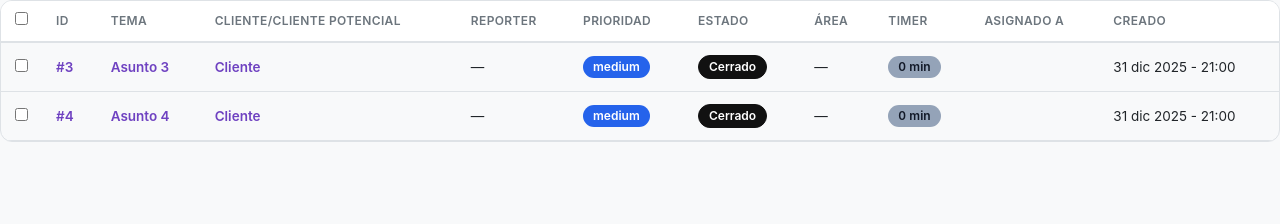
Scenario: TicketsTableView — bulk Archivar › "Archivar" is enabled when ALL selected tickets are closed
The width and height of the screenshot is (1280, 224).
Click the checkbox named "Seleccionar todos": (22, 18) [15,12,28,25]
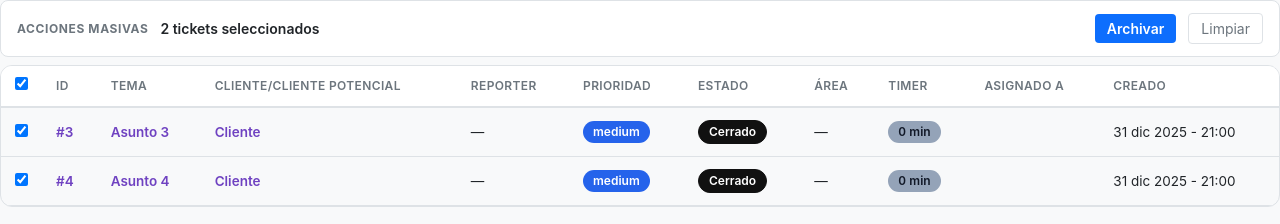
Result: the button "Archivar" is enabled at [1095,14,1176,43]
